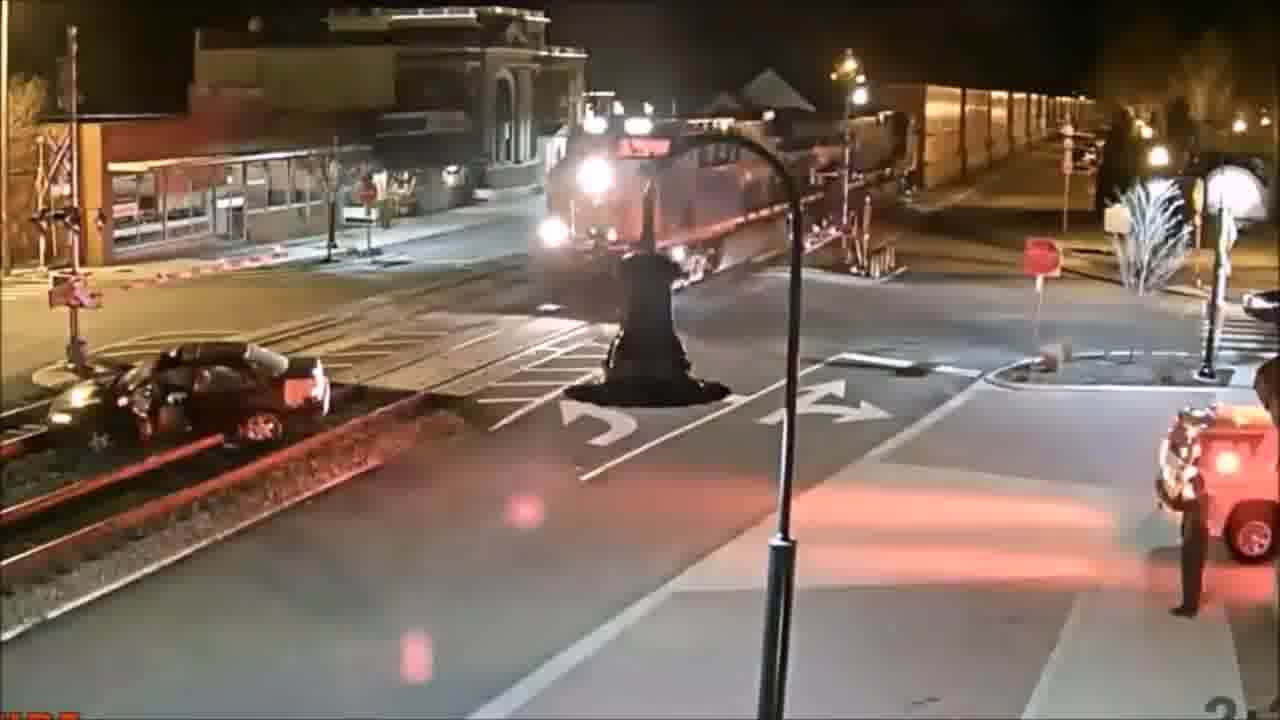crossing railway track: (42, 336, 340, 466)
